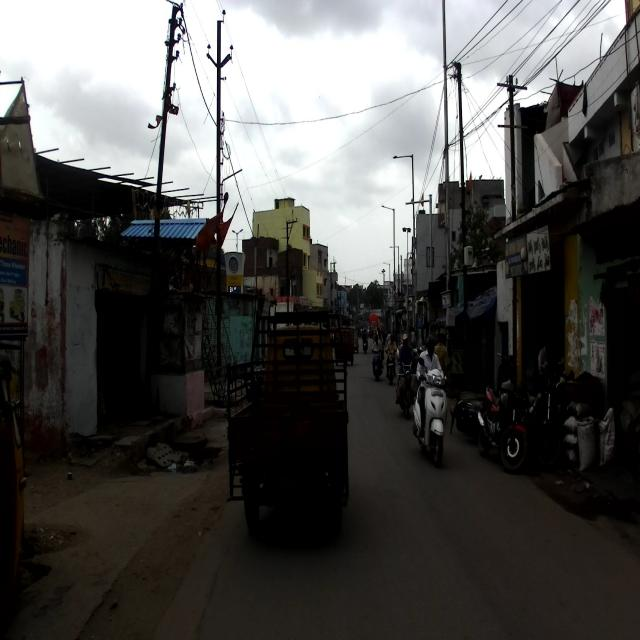autorickshaw: (224, 289, 350, 540)
motorcycle: (475, 352, 532, 474)
scooter: (411, 356, 453, 468)
